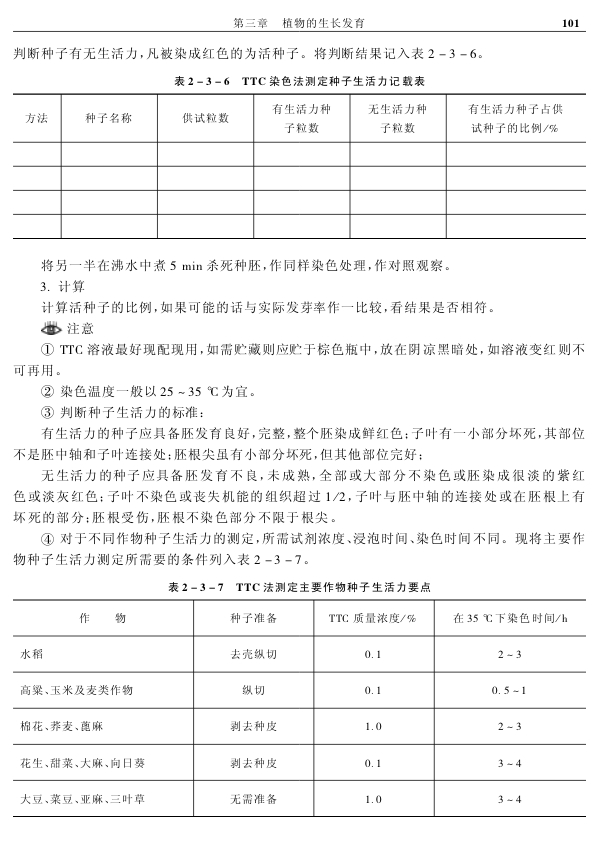table: (13, 599, 586, 816), (13, 93, 586, 239)
